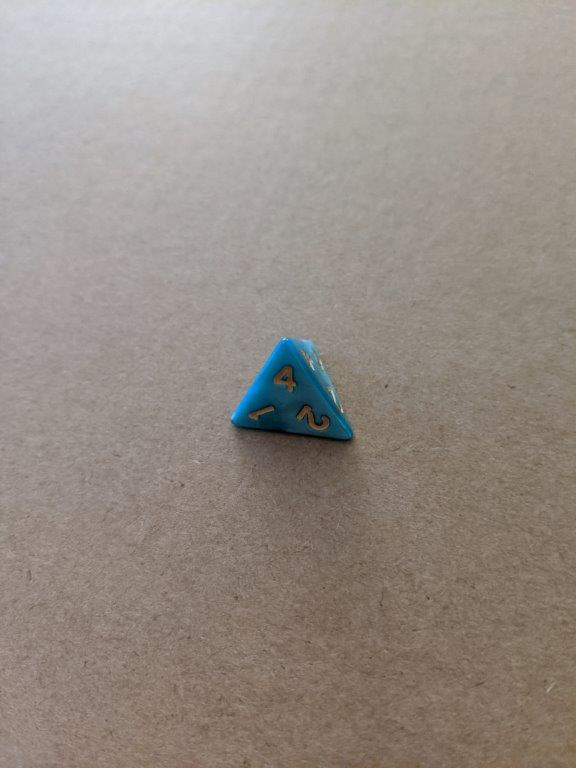d4-4: (231, 332, 354, 448)
